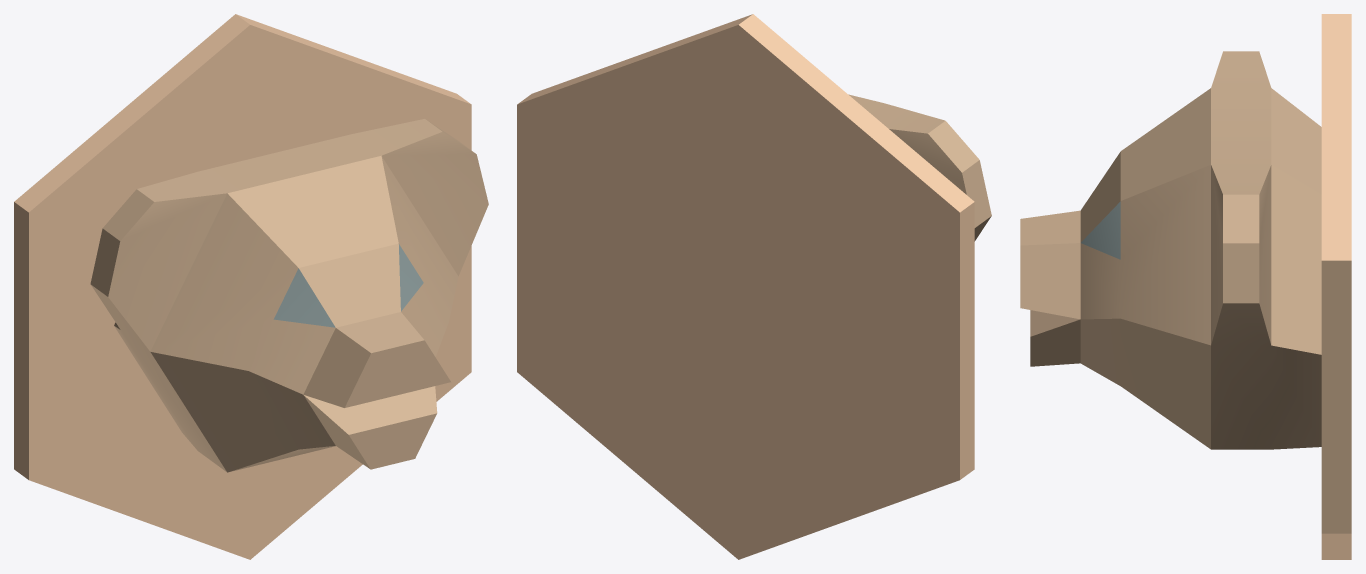
The model's file is bear.glb.
3 views of the same model, side by side, from view 1: azimuth 30°, elevation 25°; view 2: azimuth 150°, elevation 25°; view 3: azimuth 270°, elevation 25° (orthographic). The views are drawn at different scales.
Parts seen in each view (by area): view 1: bear(Clone); view 2: bear(Clone); view 3: bear(Clone).
Part boxes in pixels (x1,y1,x2,y2): bear(Clone): (14,14,488,559); bear(Clone): (517,14,991,559); bear(Clone): (1020,14,1351,559).
Size of the model in its own units: 0.7911 by 0.9135 by 0.5024.
3 materials, 3 textured.
